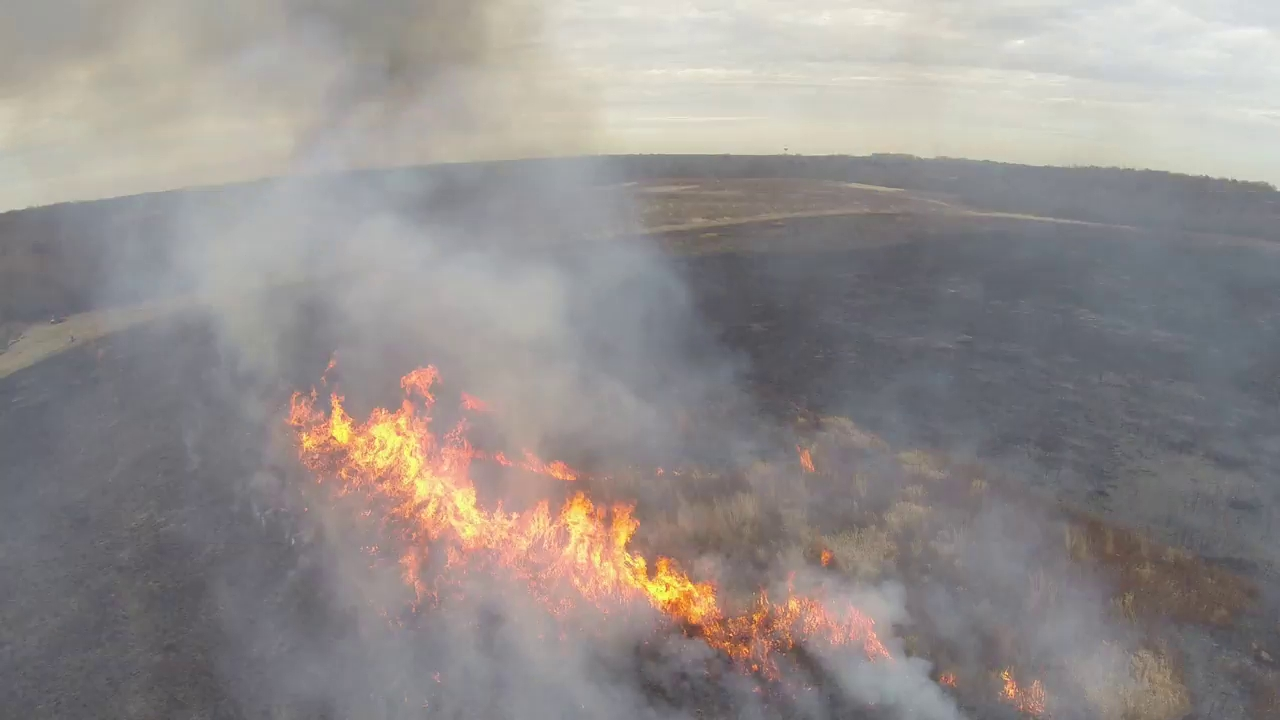forest_fire: (288, 366, 891, 672), (1000, 669, 1045, 715), (798, 446, 815, 472), (820, 547, 833, 566)
